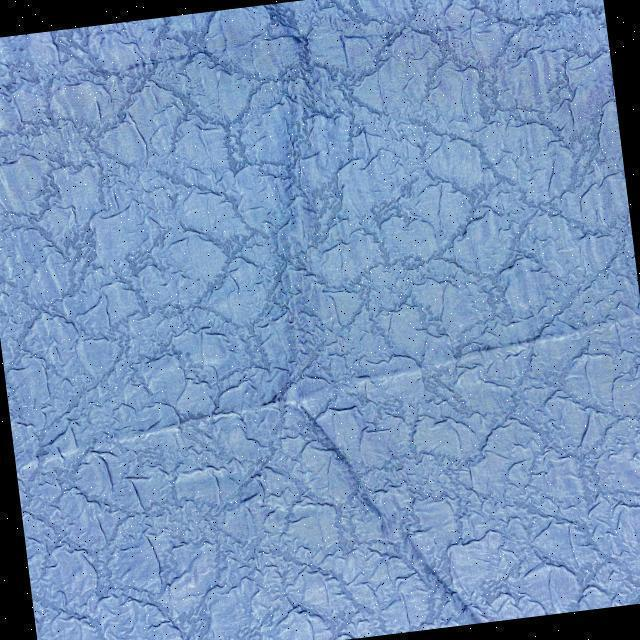broken_yarn: (274, 55, 468, 601), (16, 311, 634, 473)
